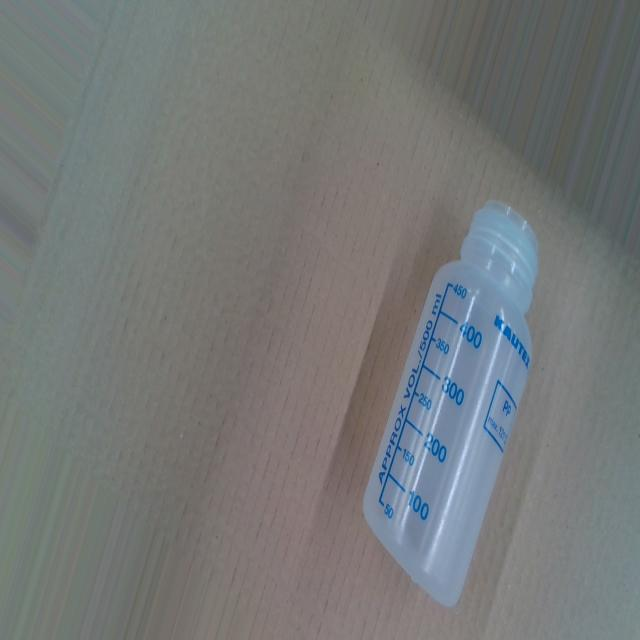bottle: (359, 195, 540, 609)
